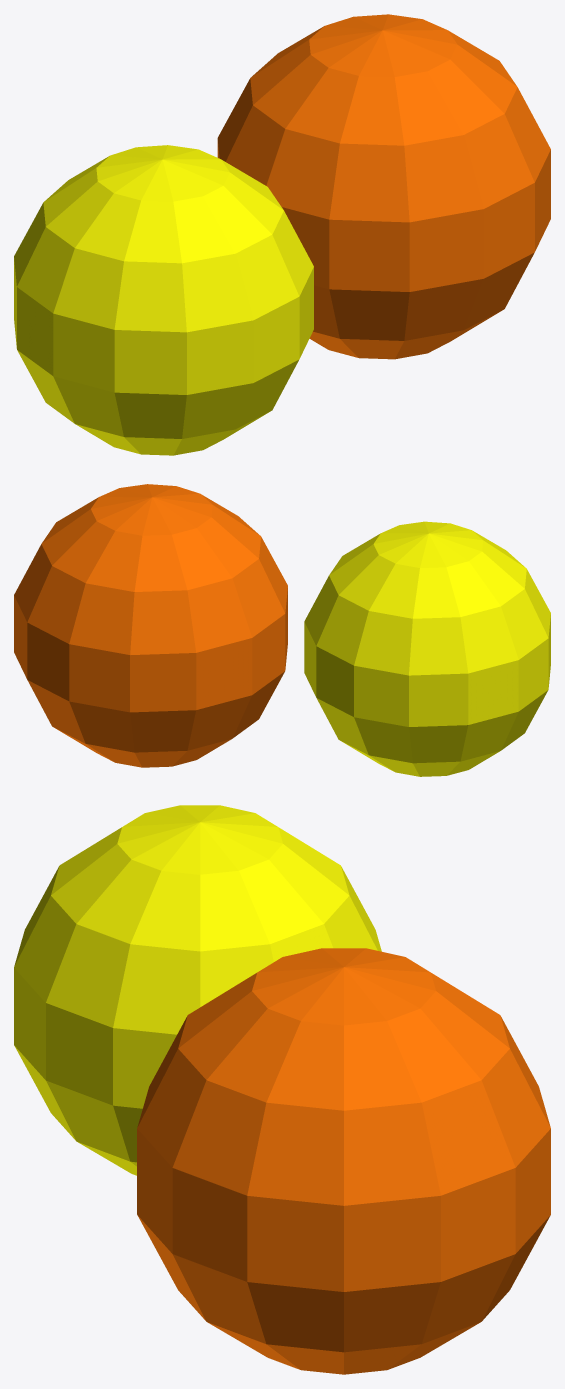
The model's file is orange2.glb.
3 renders of one model, top to bottom at view 1: azimuth 30°, elevation 25°; view 2: azimuth 150°, elevation 25°; view 3: azimuth 270°, elevation 25°, orthographic. The views are drawn at different scales.
Bounding box in the file's own units: 0.5898 × 0.32 × 0.4019.
